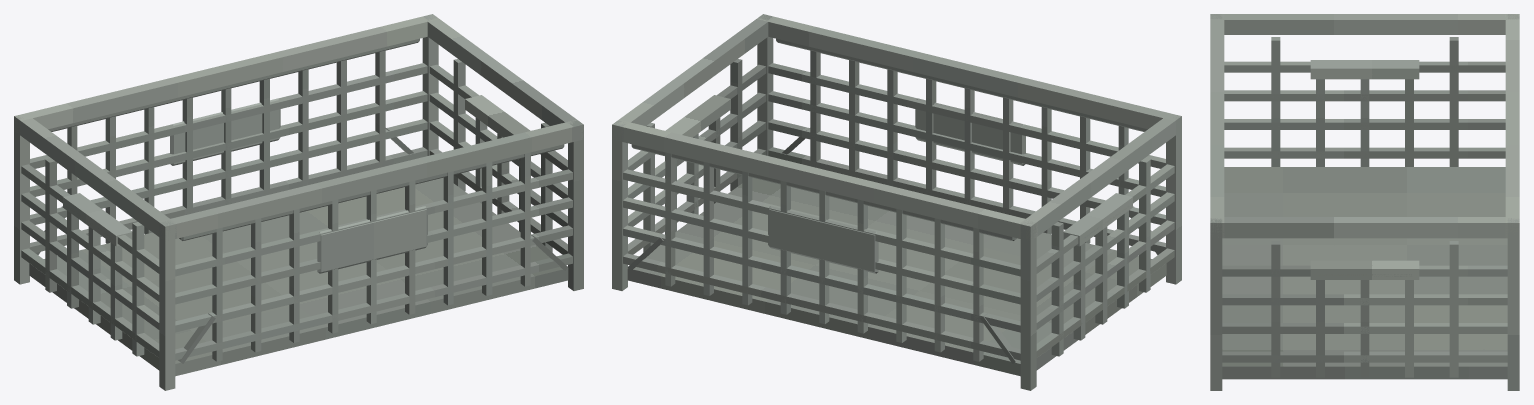
The model's file is crate-gray.glb.
3 renders of one model, left to right at view 1: azimuth 30°, elevation 25°; view 2: azimuth 150°, elevation 25°; view 3: azimuth 270°, elevation 25°, orthographic. The views are drawn at different scales.
Parts seen in each view (by area): view 1: crate-gray/solid-base, crate-gray/top-long-rim--1, crate-gray/top-long-rim-1, crate-gray/detail-moulded-panel--1, crate-gray/long-band--1-0, crate-gray/long-band--1-1, crate-gray/top-end-rim--1, crate-gray/long-band-1-3, crate-gray/top-end-rim-1, crate-gray/long-band-1-2, crate-gray/long-band--1-3, crate-gray/long-band-1-1 (+43 smaller); view 2: crate-gray/solid-base, crate-gray/top-long-rim-1, crate-gray/top-long-rim--1, crate-gray/detail-moulded-panel-1, crate-gray/long-band-1-1, crate-gray/long-band-1-0, crate-gray/top-end-rim--1, crate-gray/long-band--1-3, crate-gray/top-end-rim-1, crate-gray/long-band-1-3, crate-gray/long-band--1-2, crate-gray/long-band--1-1 (+43 smaller); view 3: crate-gray/solid-base, crate-gray/top-end-rim-1, crate-gray/top-end-rim--1, crate-gray/end-band-1-0, crate-gray/end-band-1-2, crate-gray/end-band--1-2, crate-gray/end-band--1-0, crate-gray/top-long-rim--1, crate-gray/top-long-rim-1, crate-gray/end-band-1-1, crate-gray/end-band--1-1, crate-gray/corner-1-0 (+15 smaller).
Part boxes in pixels (x1,y1,x2,y2): crate-gray/solid-base: (29, 177, 568, 376); crate-gray/top-long-rim--1: (158, 120, 583, 238); crate-gray/top-long-rim-1: (14, 14, 438, 129); crate-gray/detail-moulded-panel--1: (317, 206, 427, 273); crate-gray/long-band--1-0: (175, 253, 572, 360); crate-gray/long-band--1-1: (175, 225, 572, 332); crate-gray/top-end-rim--1: (14, 116, 176, 240); crate-gray/long-band-1-3: (30, 63, 427, 168); crate-gray/top-end-rim-1: (421, 15, 583, 142); crate-gray/long-band-1-2: (30, 91, 427, 196); crate-gray/long-band--1-3: (175, 169, 572, 276); crate-gray/long-band-1-1: (30, 119, 427, 224); crate-gray/solid-base: (627, 177, 1166, 376); crate-gray/top-long-rim-1: (612, 120, 1037, 238); crate-gray/top-long-rim--1: (757, 14, 1181, 129); crate-gray/detail-moulded-panel-1: (768, 206, 878, 273); crate-gray/long-band-1-1: (623, 225, 1020, 332); crate-gray/long-band-1-0: (623, 253, 1020, 360); crate-gray/top-end-rim--1: (1019, 117, 1181, 238); crate-gray/long-band--1-3: (768, 63, 1165, 168); crate-gray/top-end-rim-1: (614, 15, 772, 141); crate-gray/long-band-1-3: (623, 169, 1020, 276); crate-gray/long-band--1-2: (768, 91, 1165, 196); crate-gray/long-band--1-1: (768, 119, 1165, 224); crate-gray/solid-base: (1222, 167, 1507, 379); crate-gray/top-end-rim-1: (1212, 217, 1519, 238); crate-gray/top-end-rim--1: (1210, 14, 1519, 34); crate-gray/end-band-1-0: (1222, 351, 1507, 362); crate-gray/end-band-1-2: (1222, 294, 1507, 305); crate-gray/end-band--1-2: (1224, 90, 1505, 101); crate-gray/end-band--1-0: (1224, 147, 1505, 158); crate-gray/top-long-rim--1: (1210, 14, 1224, 238); crate-gray/top-long-rim-1: (1505, 14, 1519, 238); crate-gray/end-band-1-1: (1222, 323, 1507, 333); crate-gray/end-band--1-1: (1224, 119, 1505, 129); crate-gray/corner-1-0: (1210, 218, 1222, 390).
Bounding box in the file's own units: 0.5 × 0.1875 × 0.3125.
1 material, 1 textured.
